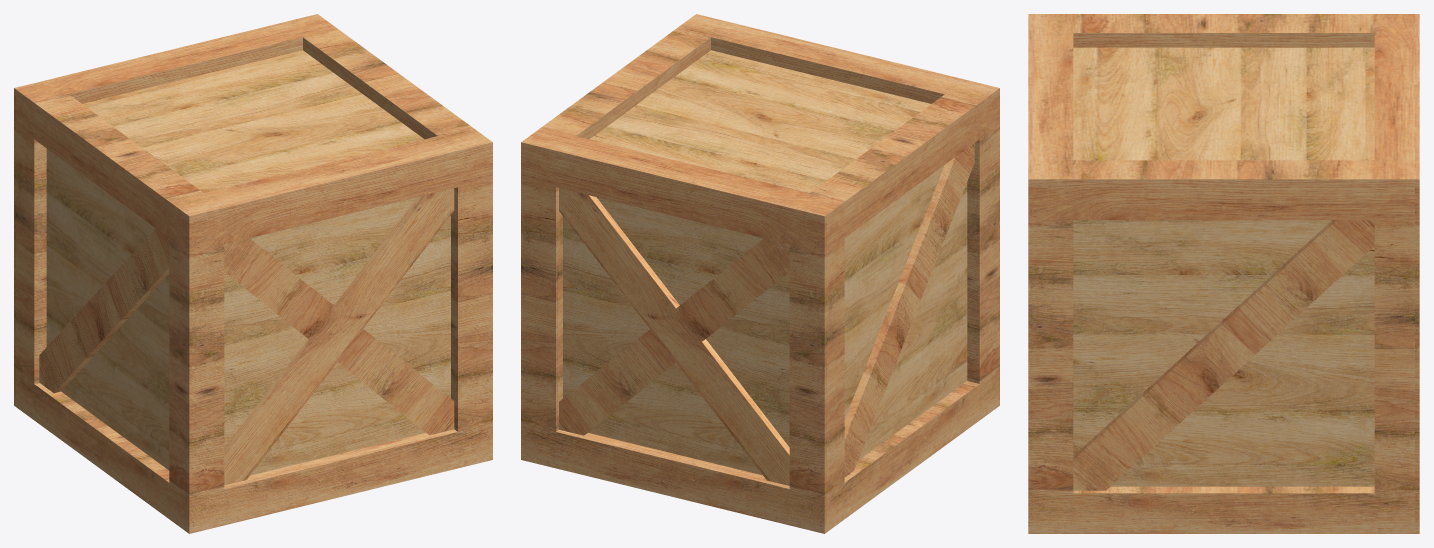
Rendered from crate.glb.
The picture shows the model from 3 angles, left to right: view 1: azimuth 30°, elevation 25°; view 2: azimuth 150°, elevation 25°; view 3: azimuth 270°, elevation 25°; orthographic projection. The views are drawn at different scales.
Visible parts, largest first — view 1: Cube, Cube.001, Cube.002, Cube.004; view 2: Cube, Cube.001, Cube.006, Cube.004; view 3: Cube.001, Cube, Cube.003.
Part boxes in pixels (x1=…): Cube: x1=14, y1=14, x2=492, y2=533; Cube.001: x1=46, y1=50, x2=450, y2=475; Cube.002: x1=224, y1=188, x2=454, y2=485; Cube.004: x1=39, y1=228, x2=169, y2=393; Cube: x1=521, y1=14, x2=999, y2=533; Cube.001: x1=563, y1=50, x2=967, y2=475; Cube.006: x1=559, y1=188, x2=789, y2=485; Cube.004: x1=844, y1=143, x2=974, y2=477; Cube.001: x1=1073, y1=47, x2=1374, y2=486; Cube: x1=1028, y1=14, x2=1419, y2=533; Cube.003: x1=1073, y1=220, x2=1374, y2=490.
Bounding box in the file's own units: 3.29 × 3.29 × 3.29.
2 materials, 2 textured.
